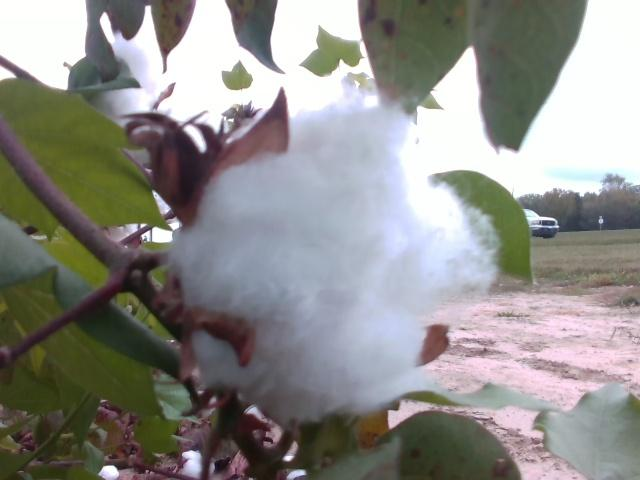cotton_ready: (177, 94, 498, 423), (79, 31, 207, 144)
